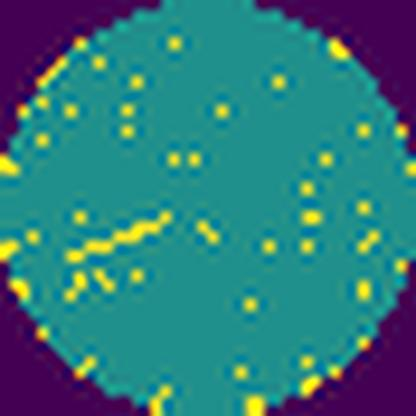Scratch: (63, 206, 177, 270)
